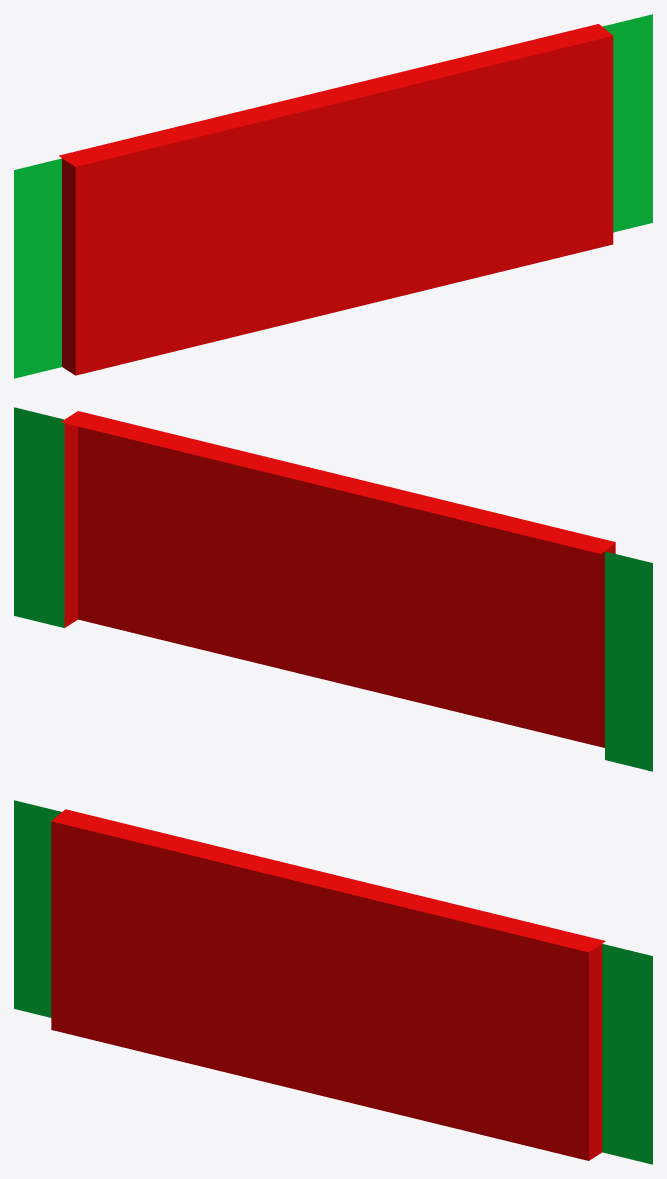
The model's file is WH_Foundation_Painted_Large.FBX.
The picture shows the model from 3 angles, top to bottom: view 1: azimuth 30°, elevation 25°; view 2: azimuth 150°, elevation 25°; view 3: azimuth 330°, elevation 25°; orthographic projection.
Visible parts, largest first — view 1: Wall_Foundation_Painted_Large; view 2: Wall_Foundation_Painted_Large; view 3: Wall_Foundation_Painted_Large.
Boxes of the visible parts, bbox=[...] form: Wall_Foundation_Painted_Large: bbox=[14, 14, 652, 378]; Wall_Foundation_Painted_Large: bbox=[14, 407, 652, 771]; Wall_Foundation_Painted_Large: bbox=[14, 800, 652, 1164].
Size of the model in its own units: 500 by 21.56 by 156.
